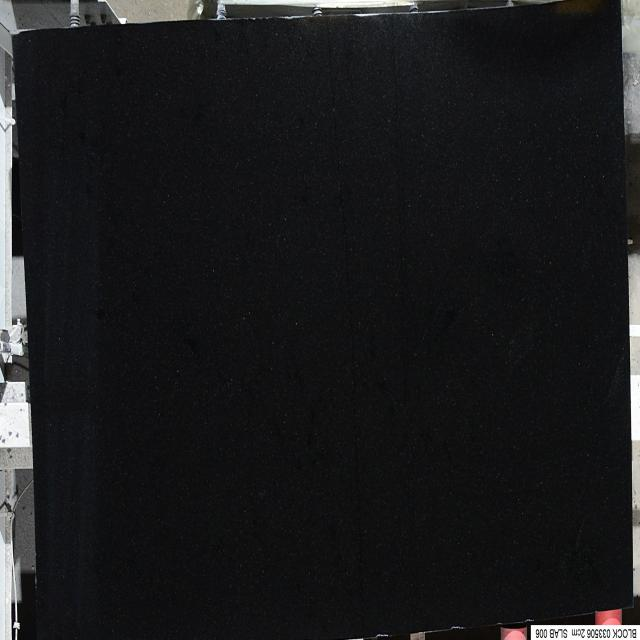chapa: (14, 2, 632, 638)
